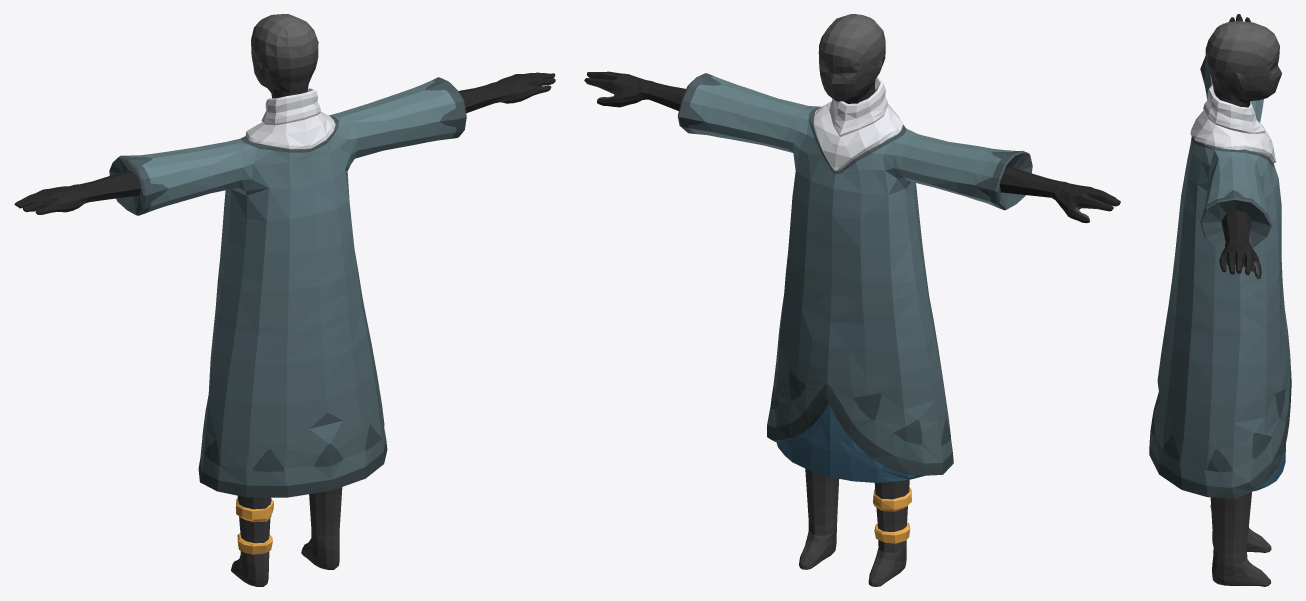
File: NPC_AP28BirdTunic.glb
3 views of the same model, side by side, from view 1: azimuth 30°, elevation 25°; view 2: azimuth 150°, elevation 25°; view 3: azimuth 270°, elevation 25° (orthographic).
Visible parts, largest first — view 1: NPC_AP28BirdTunic; view 2: NPC_AP28BirdTunic; view 3: NPC_AP28BirdTunic.
Boxes of the visible parts, box(x1,y1,x2,y2) form: NPC_AP28BirdTunic: box(14, 14, 555, 586); NPC_AP28BirdTunic: box(584, 14, 1120, 586); NPC_AP28BirdTunic: box(1149, 14, 1291, 586).
Bounding box in the file's own units: 14.34 × 14.13 × 3.36.
Materials: 1 (1 with a texture image).
